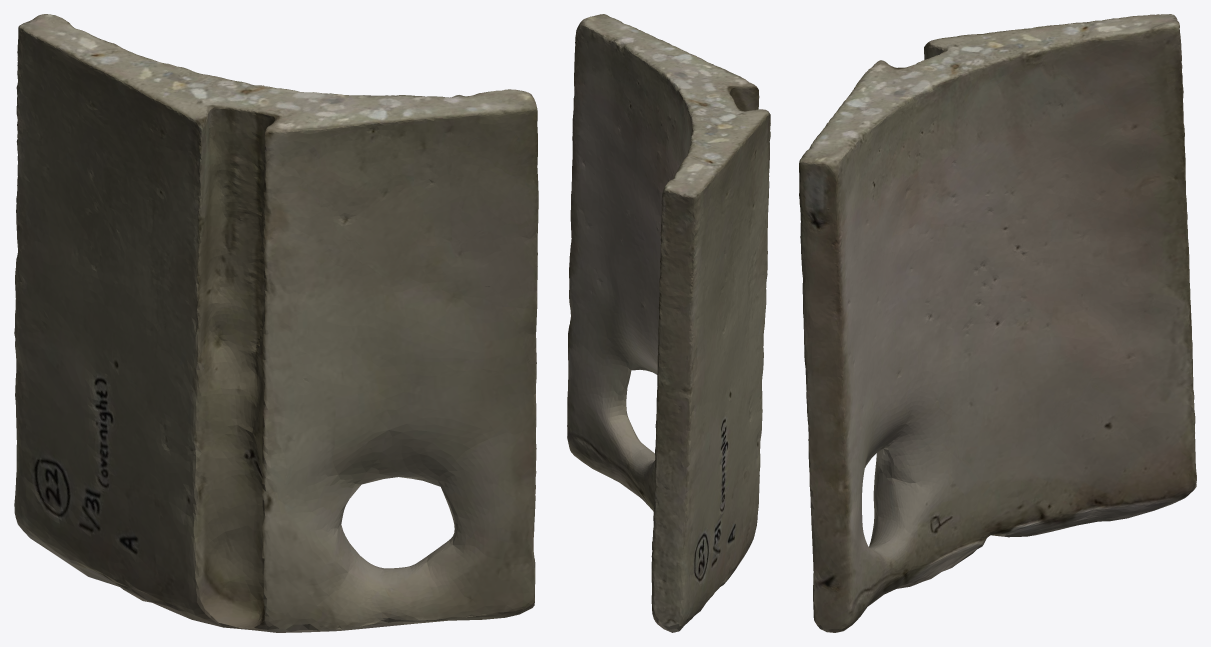
Rendered from Basement 6.glb.
3 views of the same model, side by side, from view 1: azimuth 30°, elevation 25°; view 2: azimuth 150°, elevation 25°; view 3: azimuth 270°, elevation 25° (orthographic). The views are drawn at different scales.
Bounding box in the file's own units: 0.1755 × 0.2761 × 0.2005.
Materials: 1 (1 with a texture image).
